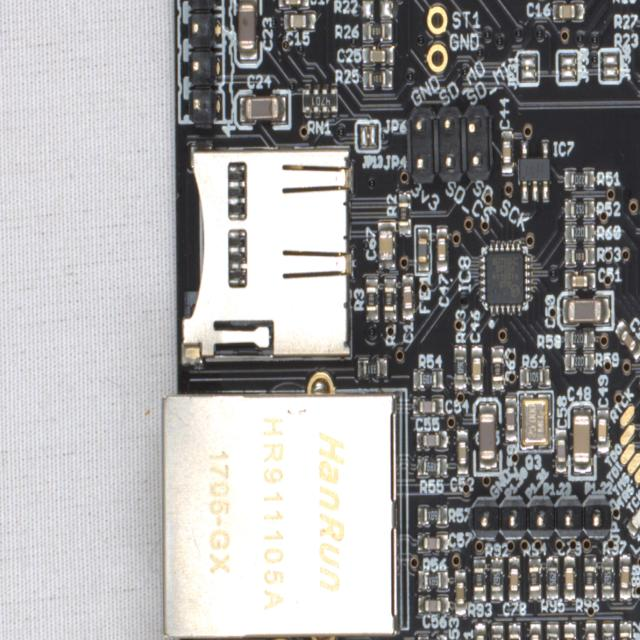IC: (478, 238, 532, 314), (516, 138, 549, 202), (637, 249, 640, 565)
capacitor: (566, 399, 598, 482), (471, 395, 502, 477), (232, 88, 292, 130), (556, 289, 614, 331), (232, 0, 264, 68), (615, 318, 640, 364), (378, 219, 396, 268), (283, 10, 315, 32), (551, 0, 584, 21), (563, 269, 596, 290), (362, 44, 394, 65), (416, 532, 448, 553), (596, 408, 610, 454), (417, 594, 449, 614), (435, 224, 448, 272), (412, 396, 444, 415), (470, 344, 483, 390), (454, 568, 466, 616), (402, 274, 414, 320), (508, 554, 520, 600), (456, 429, 468, 475), (500, 130, 512, 175), (554, 428, 566, 472), (505, 395, 516, 442), (564, 557, 576, 598), (416, 432, 446, 448), (619, 555, 630, 598), (277, 0, 309, 9), (528, 619, 541, 640), (584, 620, 597, 640), (474, 621, 487, 640)
clock: (516, 389, 554, 452)
component text: (204, 413, 350, 615), (490, 254, 520, 297), (525, 403, 545, 439), (524, 164, 545, 176), (310, 95, 330, 106), (425, 460, 437, 472), (366, 362, 376, 376), (421, 373, 432, 385), (528, 370, 539, 382), (574, 173, 585, 185), (427, 509, 438, 521), (427, 574, 438, 586), (367, 291, 375, 307), (603, 570, 611, 586), (572, 332, 583, 343), (456, 359, 464, 374), (574, 202, 584, 214), (492, 570, 500, 585), (548, 570, 556, 585), (385, 291, 392, 307), (493, 362, 501, 376), (574, 355, 584, 366), (371, 26, 381, 36), (372, 73, 382, 83), (574, 226, 584, 236), (530, 572, 537, 586), (399, 207, 406, 220), (575, 251, 584, 261), (586, 570, 592, 585), (476, 572, 482, 586), (603, 635, 611, 640), (620, 636, 628, 640), (548, 637, 556, 640), (565, 637, 572, 640), (426, 638, 436, 640), (493, 638, 501, 640), (509, 638, 516, 640)
connector: (158, 370, 410, 640), (176, 134, 355, 370), (175, 0, 224, 126), (470, 496, 611, 538), (407, 105, 492, 144), (406, 144, 493, 180), (424, 0, 448, 73), (158, 638, 349, 640)
ferrite bead: (414, 224, 432, 275)
inductor: (625, 494, 640, 536)
pads: (353, 118, 382, 152), (554, 48, 579, 87), (516, 48, 540, 87), (597, 46, 620, 85), (361, 0, 394, 20), (618, 422, 636, 446), (619, 404, 635, 428), (619, 441, 635, 465), (626, 451, 640, 477), (633, 461, 640, 484), (639, 37, 640, 62)
resistor: (300, 84, 338, 117), (416, 504, 448, 528), (490, 346, 505, 392), (417, 570, 449, 591), (361, 69, 393, 89), (518, 368, 550, 388), (472, 555, 486, 600), (361, 21, 392, 41), (357, 358, 388, 378), (412, 369, 443, 389), (563, 168, 594, 188), (565, 246, 595, 266), (398, 190, 411, 236), (564, 224, 596, 242), (365, 277, 378, 321), (564, 330, 594, 349), (564, 199, 594, 218), (583, 554, 596, 597), (453, 349, 467, 388), (601, 556, 614, 598), (528, 558, 541, 600), (491, 557, 503, 602), (563, 354, 594, 371), (384, 277, 396, 320), (546, 556, 558, 599), (601, 620, 614, 640), (490, 622, 504, 640), (546, 620, 558, 640), (507, 623, 521, 640), (563, 622, 576, 640), (619, 621, 631, 640), (416, 634, 446, 640)
